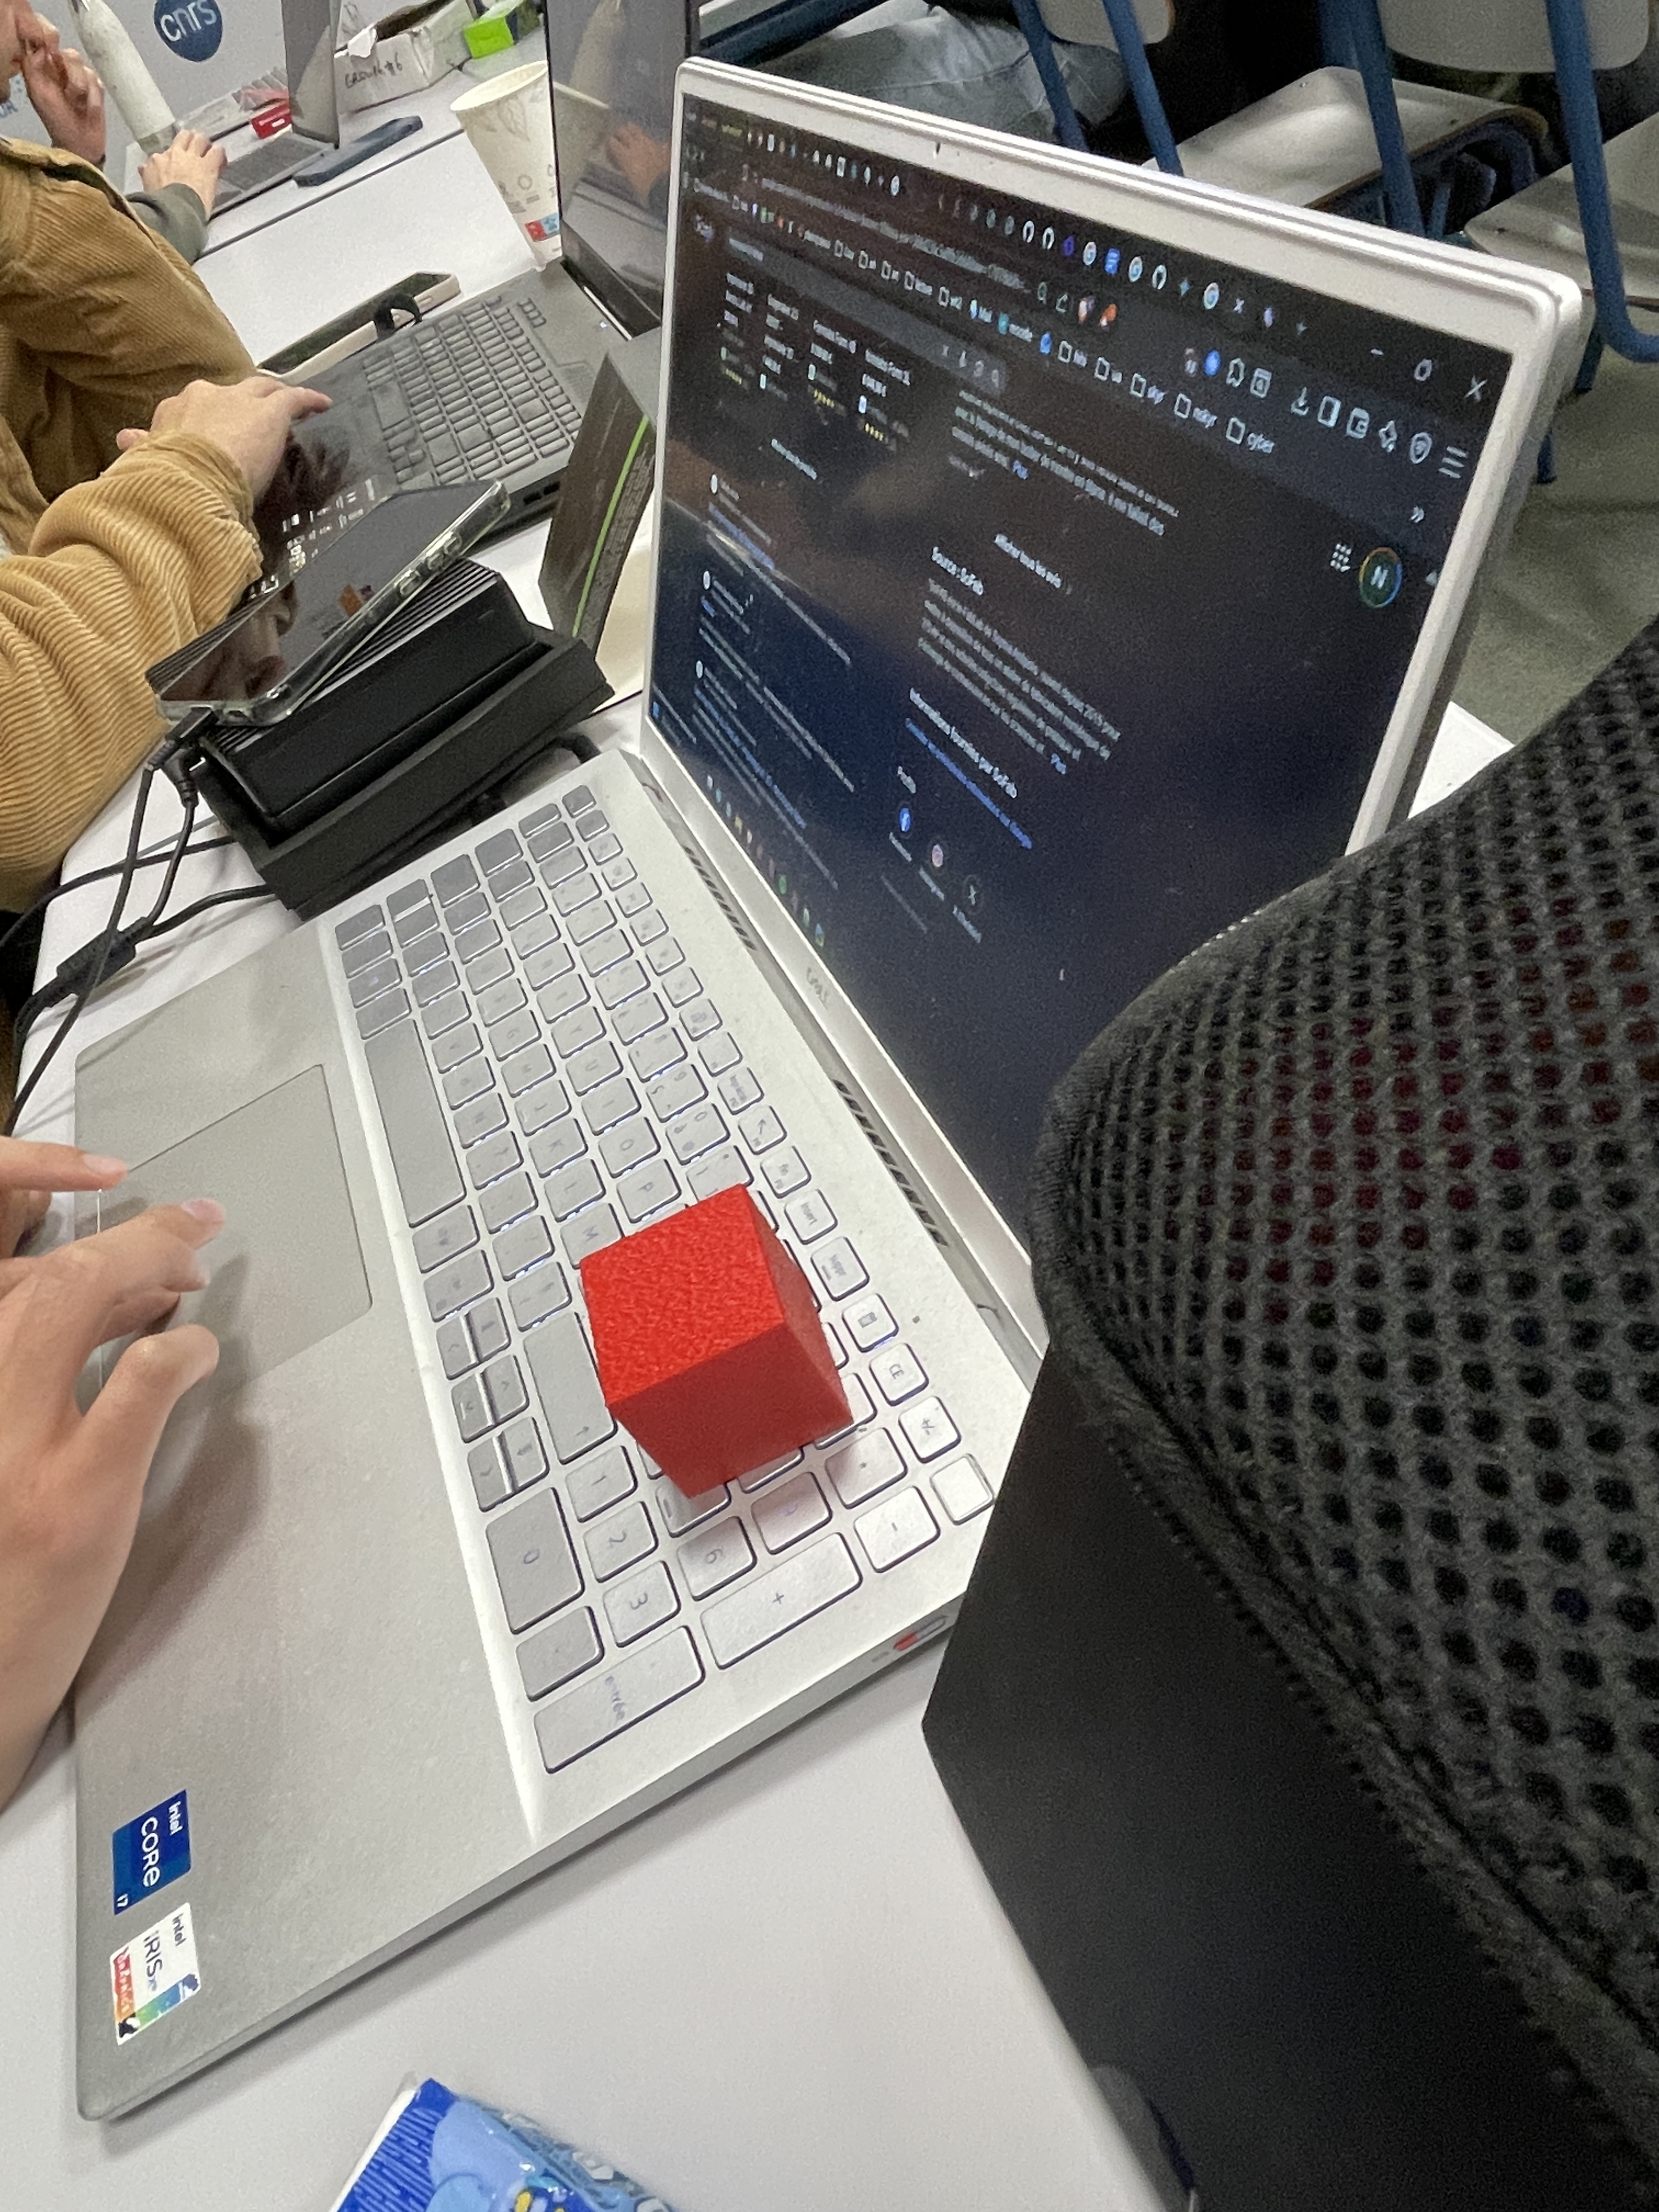red_cube: (579, 1179, 850, 1494)
